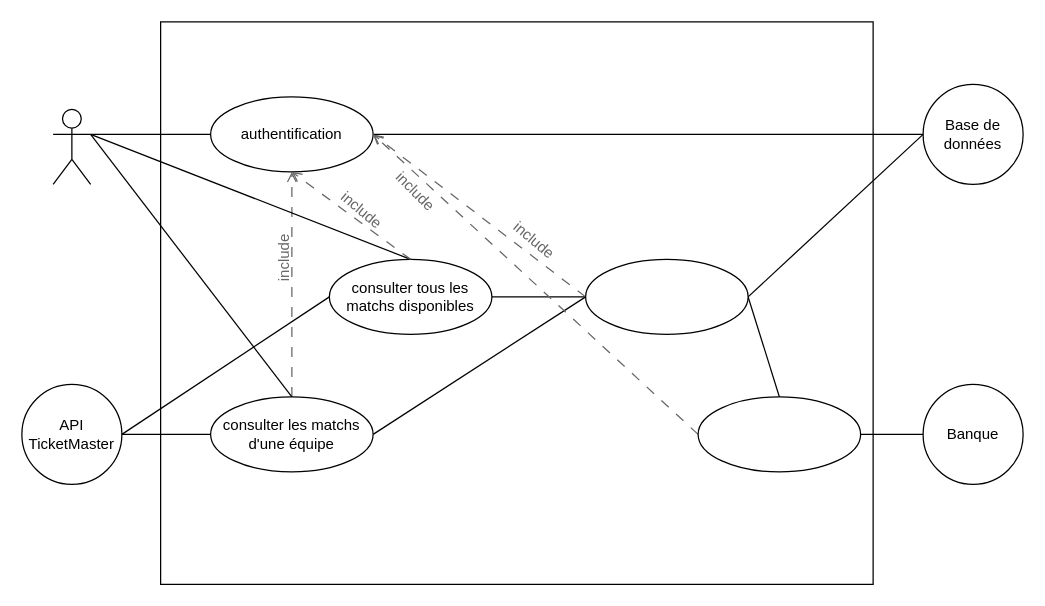
The diagram is 1045 pixels wide and 606 high, and some of its shapes have lost their labels. The shapes that lost their labels are listed below. From the top down, each one's centre as x and y in pixels, then its label:
(71,146): Client
(666,296): réserver des places
(779,434): payer
